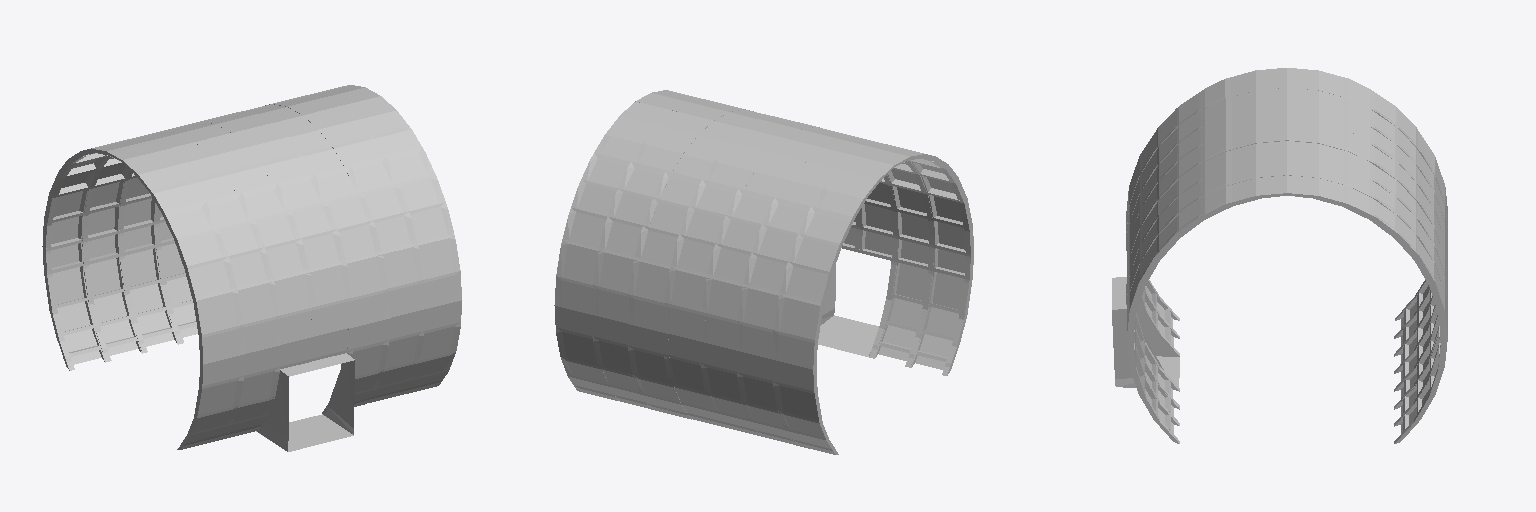
Rendered from TonnelTeh.obj.
3 renders of one model, left to right at view 1: azimuth 30°, elevation 25°; view 2: azimuth 150°, elevation 25°; view 3: azimuth 270°, elevation 25°, orthographic.
Visible parts, largest first — view 1: cilindre.006; view 2: cilindre.006; view 3: cilindre.006.
Boxes of the visible parts, <box> form: cilindre.006: <box>42,85,461,451</box>; cilindre.006: <box>554,90,973,454</box>; cilindre.006: <box>1112,68,1447,443</box>.
Bounding box in the file's own units: 1.87 × 1.73 × 2.1.